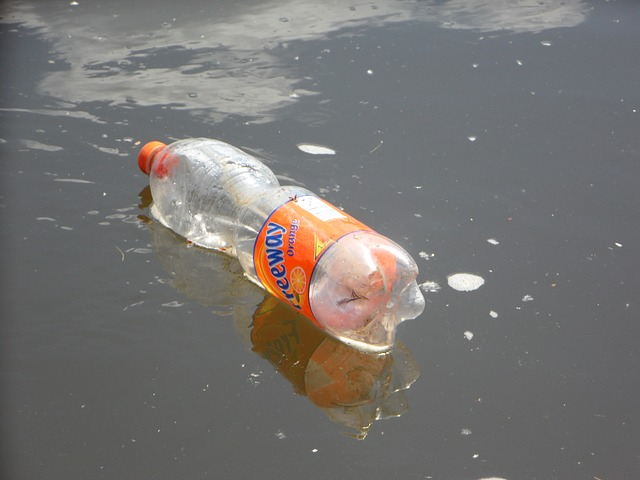plastic_bottle: (129, 127, 438, 361)
